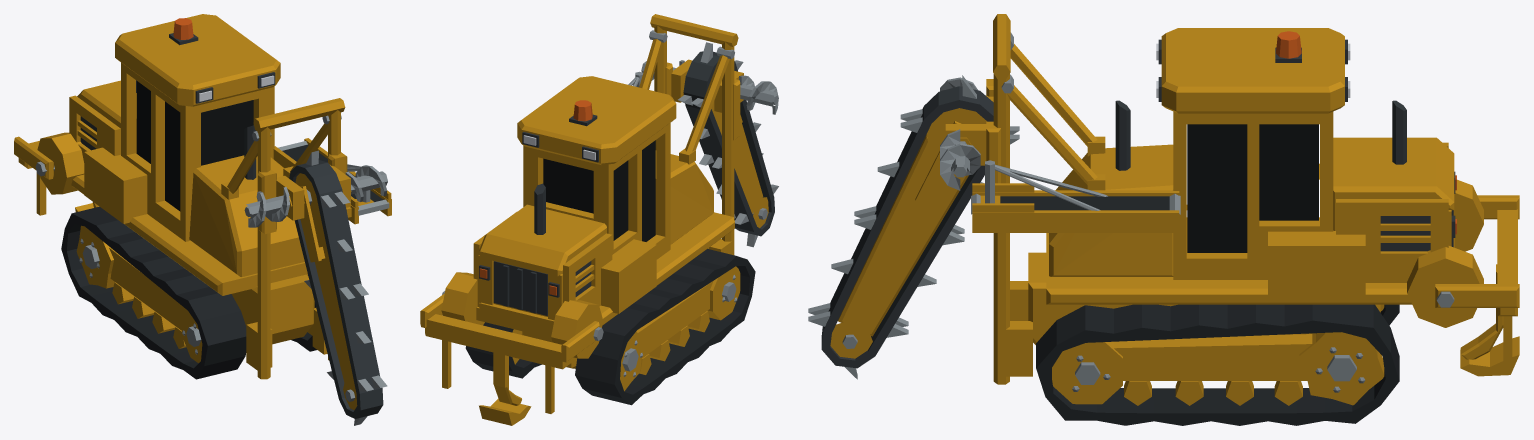
The model's file is chain-trencher-215857.glb.
3 views of the same model, side by side, from view 1: azimuth 30°, elevation 25°; view 2: azimuth 150°, elevation 25°; view 3: azimuth 270°, elevation 25° (orthographic). The views are drawn at different scales.
Parts seen in each view (by area): view 1: machine, dig-chain, boom, carriage, auger-flights, conveyor-mesh, sprocket-r-mesh, crumber-frame, idler-r-mesh; view 2: machine, crumber-frame, dig-chain, boom, carriage, idler-r-mesh, auger-flights, sprocket-r-mesh; view 3: machine, boom, dig-chain, conveyor-mesh, crumber-frame, sprocket-l-mesh, idler-l-mesh, carriage, auger-flights.
Boxes of the visible parts, x1,y1,x2,y2 form: machine: (35,14,345,379); dig-chain: (289,150,387,425); boom: (295,173,357,410); carriage: (244,152,373,234); auger-flights: (246,165,387,227); conveyor-mesh: (273,138,391,224); sprocket-r-mesh: (76,225,114,288); crumber-frame: (14,136,99,215); idler-r-mesh: (182,310,202,363); machine: (441,14,755,405); crumber-frame: (420,293,599,425); dig-chain: (678,42,778,247); boom: (711,101,768,228); carriage: (665,59,778,140); idler-r-mesh: (707,266,740,320); auger-flights: (641,60,778,114); sprocket-r-mesh: (620,331,644,391); machine: (993,14,1483,425); boom: (830,108,986,358); dig-chain: (808,75,1019,379); conveyor-mesh: (971,160,1180,232); crumber-frame: (1435,195,1519,376); sprocket-l-mesh: (1299,332,1384,405); idler-l-mesh: (1052,341,1122,404); carriage: (945,79,1000,203); auger-flights: (940,77,980,190).
Size of the model in its own units: 1.57 by 2.56 by 4.81.
